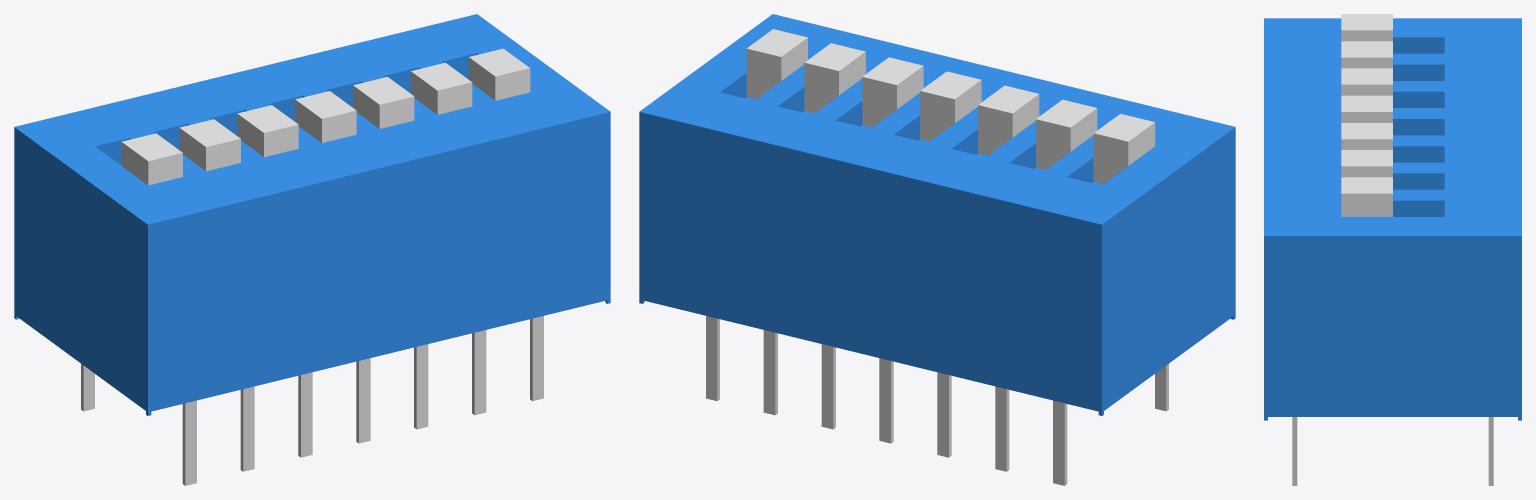
Rendered from DIP_Switch.fbx.
The picture shows the model from 3 angles, left to right: view 1: azimuth 30°, elevation 25°; view 2: azimuth 150°, elevation 25°; view 3: azimuth 270°, elevation 25°; orthographic projection. The views are drawn at different scales.
Parts seen in each view (by area): view 1: DIP Switch Body, SW7, SW1, SW2, SW3, SW5, SW4, SW6; view 2: DIP Switch Body, SW1, SW7, SW6, SW5, SW4, SW3, SW2; view 3: DIP Switch Body, SW7, SW1, SW2, SW3, SW4, SW6, SW5.
Boxes of the visible parts, left/top/right/bottom form: DIP Switch Body: left=14, top=14, right=610, bottom=485; SW7: left=468, top=48, right=530, bottom=100; SW1: left=121, top=133, right=182, bottom=185; SW2: left=179, top=119, right=240, bottom=171; SW3: left=237, top=105, right=298, bottom=157; SW5: left=353, top=77, right=414, bottom=128; SW4: left=295, top=91, right=356, bottom=142; SW6: left=411, top=62, right=472, bottom=114; DIP Switch Body: left=639, top=14, right=1235, bottom=485; SW1: left=1093, top=113, right=1155, bottom=183; SW7: left=746, top=29, right=807, bottom=99; SW6: left=804, top=43, right=865, bottom=113; SW5: left=862, top=57, right=923, bottom=127; SW4: left=920, top=71, right=981, bottom=141; SW3: left=978, top=85, right=1039, bottom=155; SW2: left=1036, top=99, right=1097, bottom=169; DIP Switch Body: left=1264, top=18, right=1521, bottom=485; SW7: left=1341, top=177, right=1392, bottom=216; SW1: left=1341, top=14, right=1392, bottom=41; SW2: left=1341, top=41, right=1392, bottom=68; SW3: left=1341, top=68, right=1392, bottom=95; SW4: left=1341, top=95, right=1392, bottom=122; SW6: left=1341, top=150, right=1392, bottom=177; SW5: left=1341, top=123, right=1392, bottom=149.
Size of the model in its own units: 0.02 by 0.0127 by 0.01.
